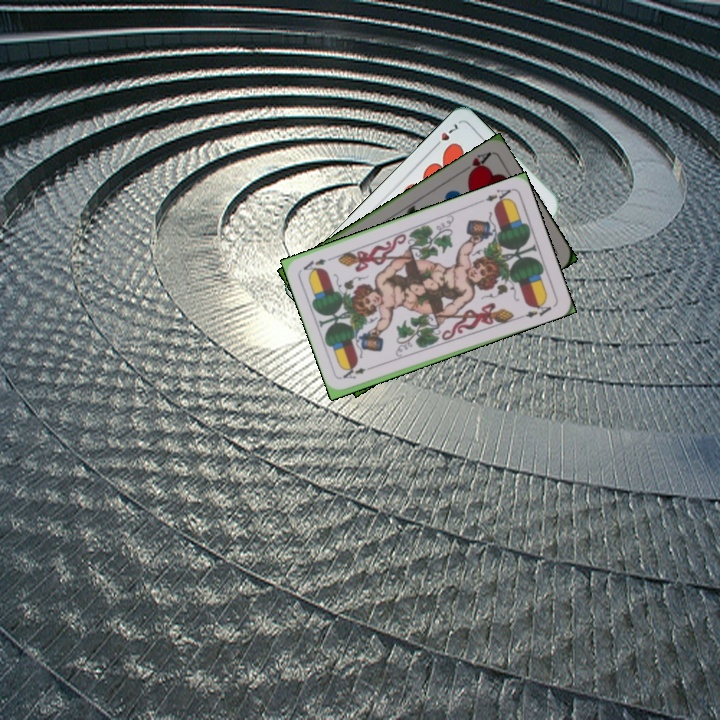EA: (339, 361, 378, 381), (482, 185, 515, 207)
H7: (429, 119, 462, 151)
HA: (457, 148, 493, 179)
